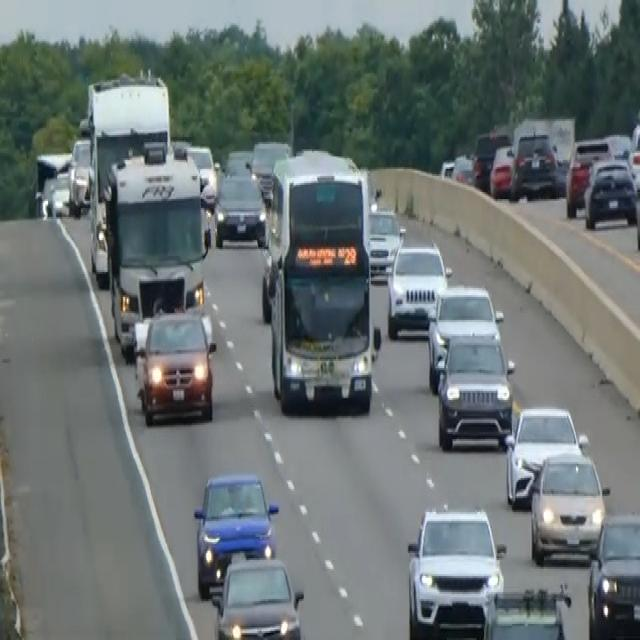bus: (263, 148, 380, 416), (102, 142, 209, 356)
car: (405, 503, 505, 638), (192, 470, 279, 598), (134, 306, 216, 425), (529, 446, 609, 566), (436, 329, 515, 450), (503, 404, 587, 508), (426, 281, 504, 391), (212, 553, 304, 638), (586, 510, 639, 638), (386, 240, 451, 338), (213, 155, 266, 249), (583, 156, 638, 230), (564, 135, 612, 217), (514, 130, 561, 199), (368, 205, 405, 279), (250, 137, 291, 203), (34, 149, 71, 217), (471, 128, 510, 190), (67, 135, 92, 213), (184, 142, 217, 198), (488, 141, 518, 199), (50, 160, 72, 217), (450, 153, 474, 185), (634, 175, 639, 252)
jeep: (476, 580, 573, 638)
